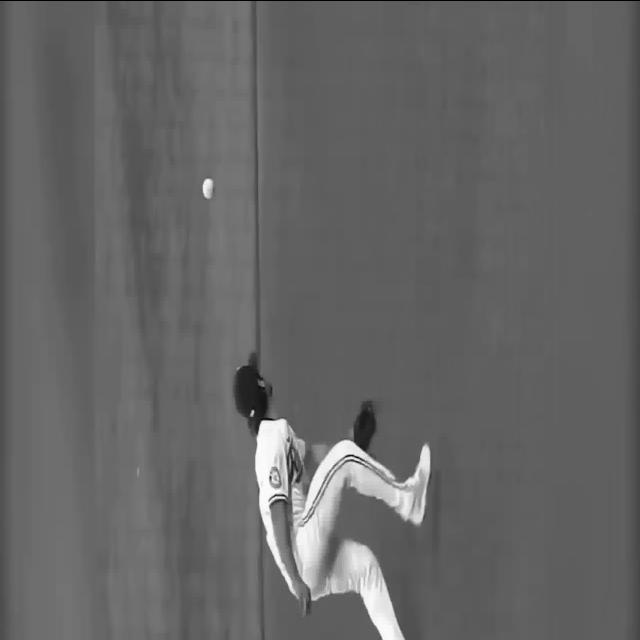baseball: (202, 177, 214, 199)
baseball_glove: (352, 403, 376, 451)
shoe: (408, 442, 432, 526)
